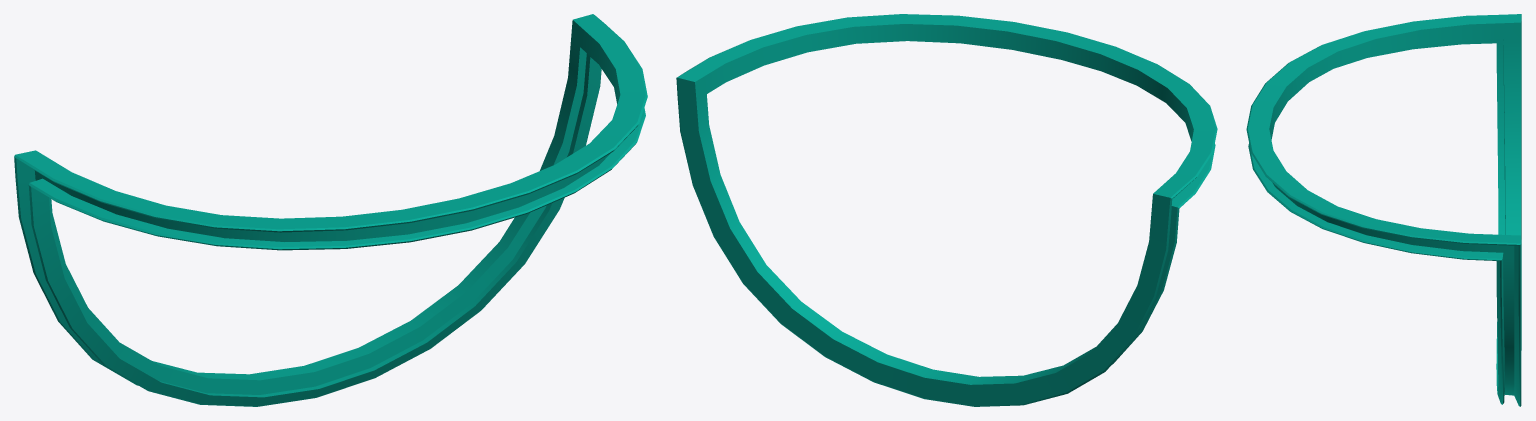
3 renders of one model, left to right at view 1: azimuth 30°, elevation 25°; view 2: azimuth 150°, elevation 25°; view 3: azimuth 270°, elevation 25°, orthographic. The views are drawn at different scales.
Parts seen in each view (by area): view 1: Spawner_Outer_Casing; view 2: Spawner_Outer_Casing; view 3: Spawner_Outer_Casing.
Boxes of the visible parts, x1,y1,x2,y2 form: Spawner_Outer_Casing: (14, 14, 647, 406); Spawner_Outer_Casing: (676, 14, 1217, 406); Spawner_Outer_Casing: (1246, 14, 1521, 406).
Size of the model in its own units: 577 by 291 by 291.
